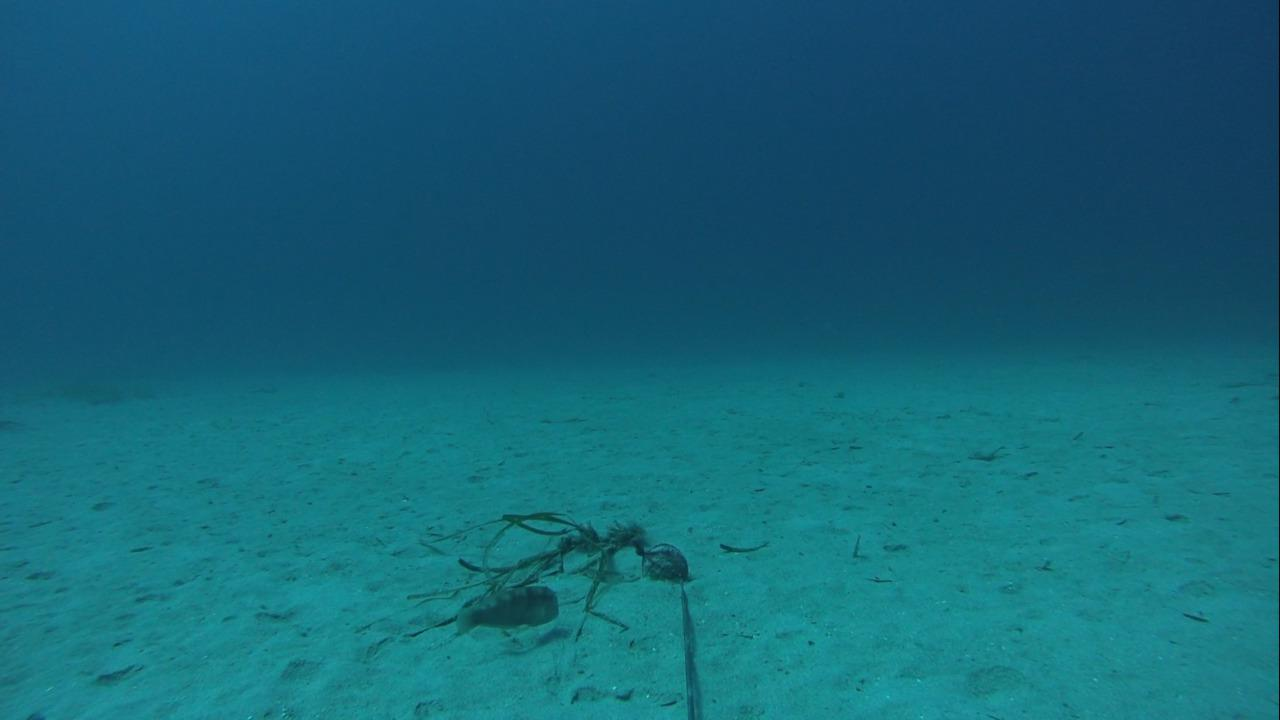raor: (445, 581, 565, 633)
